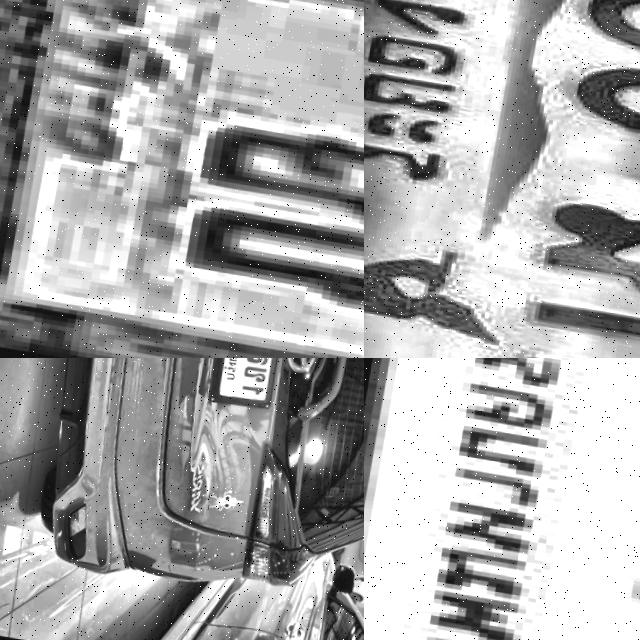license-plate: (0, 0, 364, 358), (364, 0, 640, 358), (364, 358, 640, 640), (203, 358, 303, 414)
